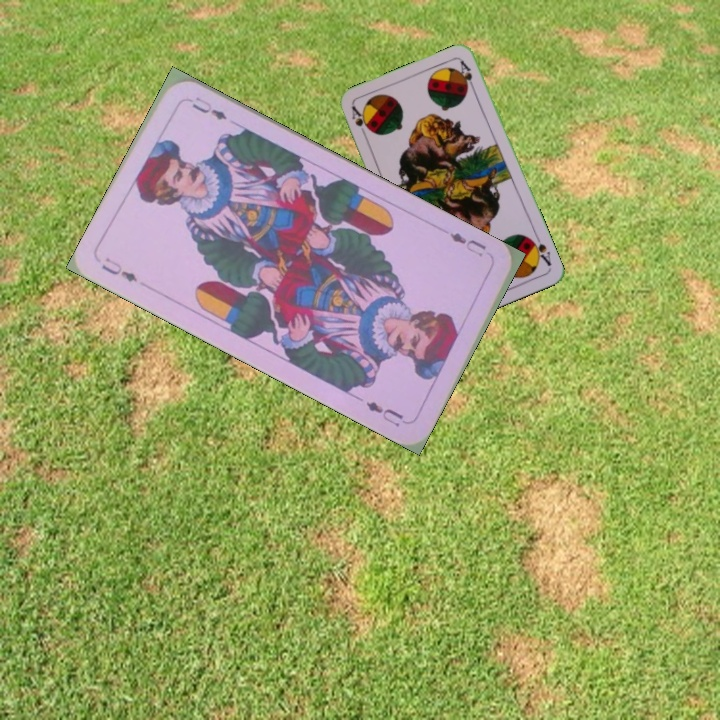EU: (445, 228, 496, 262), (97, 253, 140, 285)
SA: (526, 231, 554, 268), (347, 102, 372, 141)
